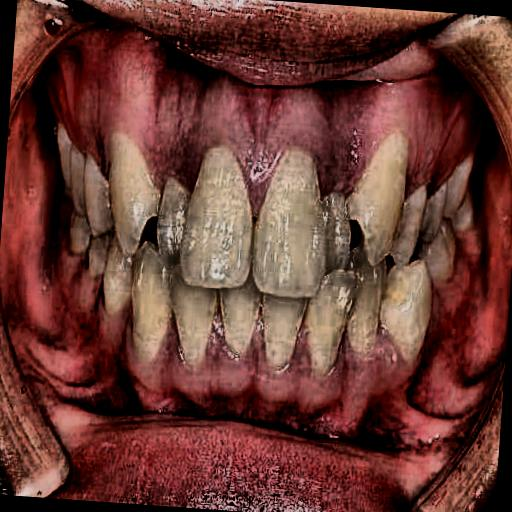Gingivitis: (66, 28, 480, 194)
